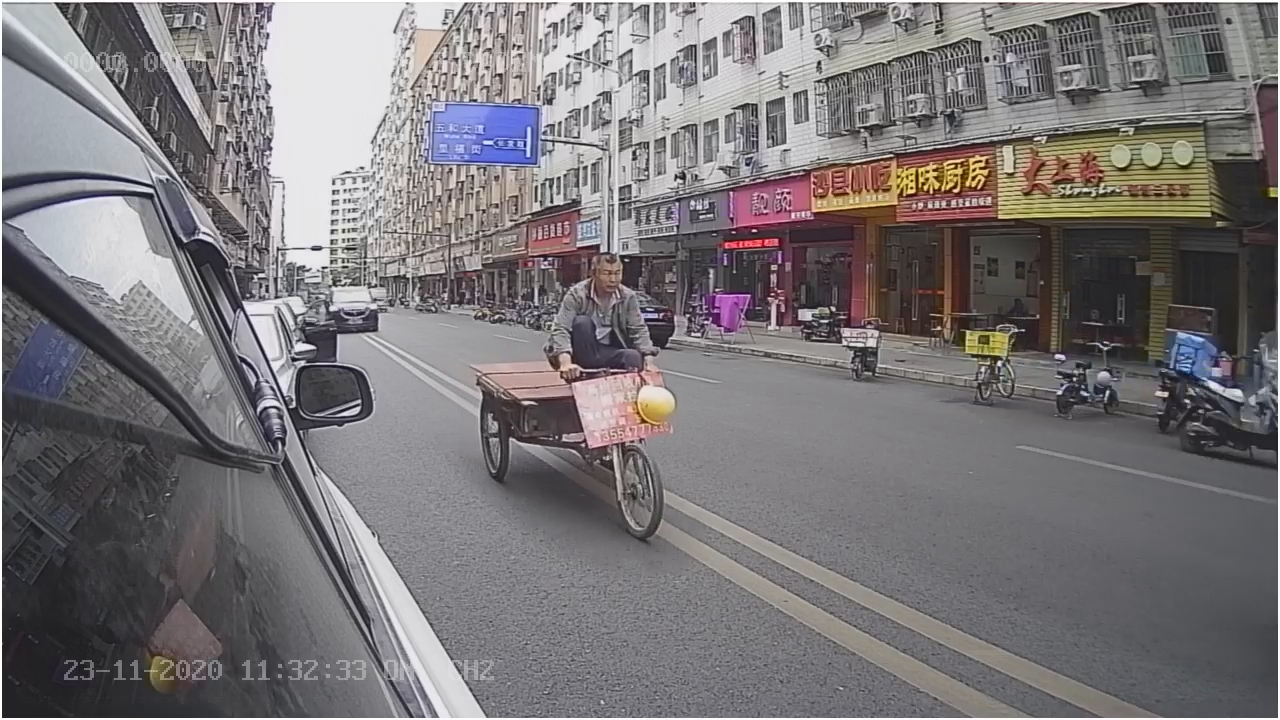person: (544, 240, 662, 379)
